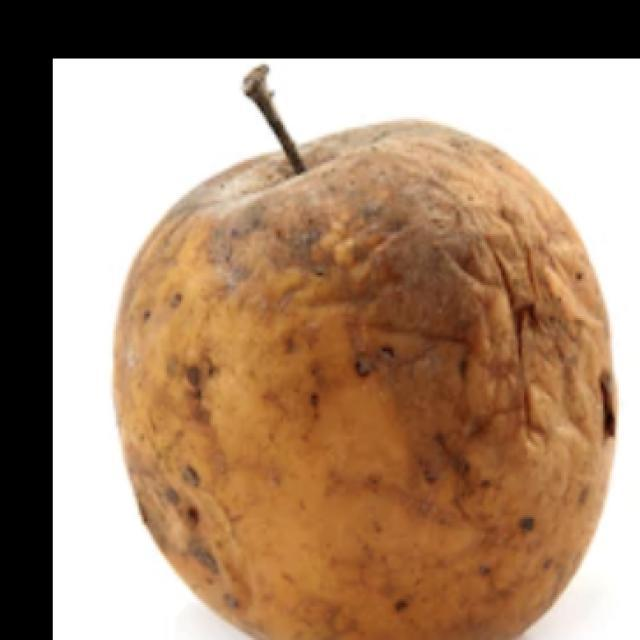Rotten: (120, 126, 600, 640)
